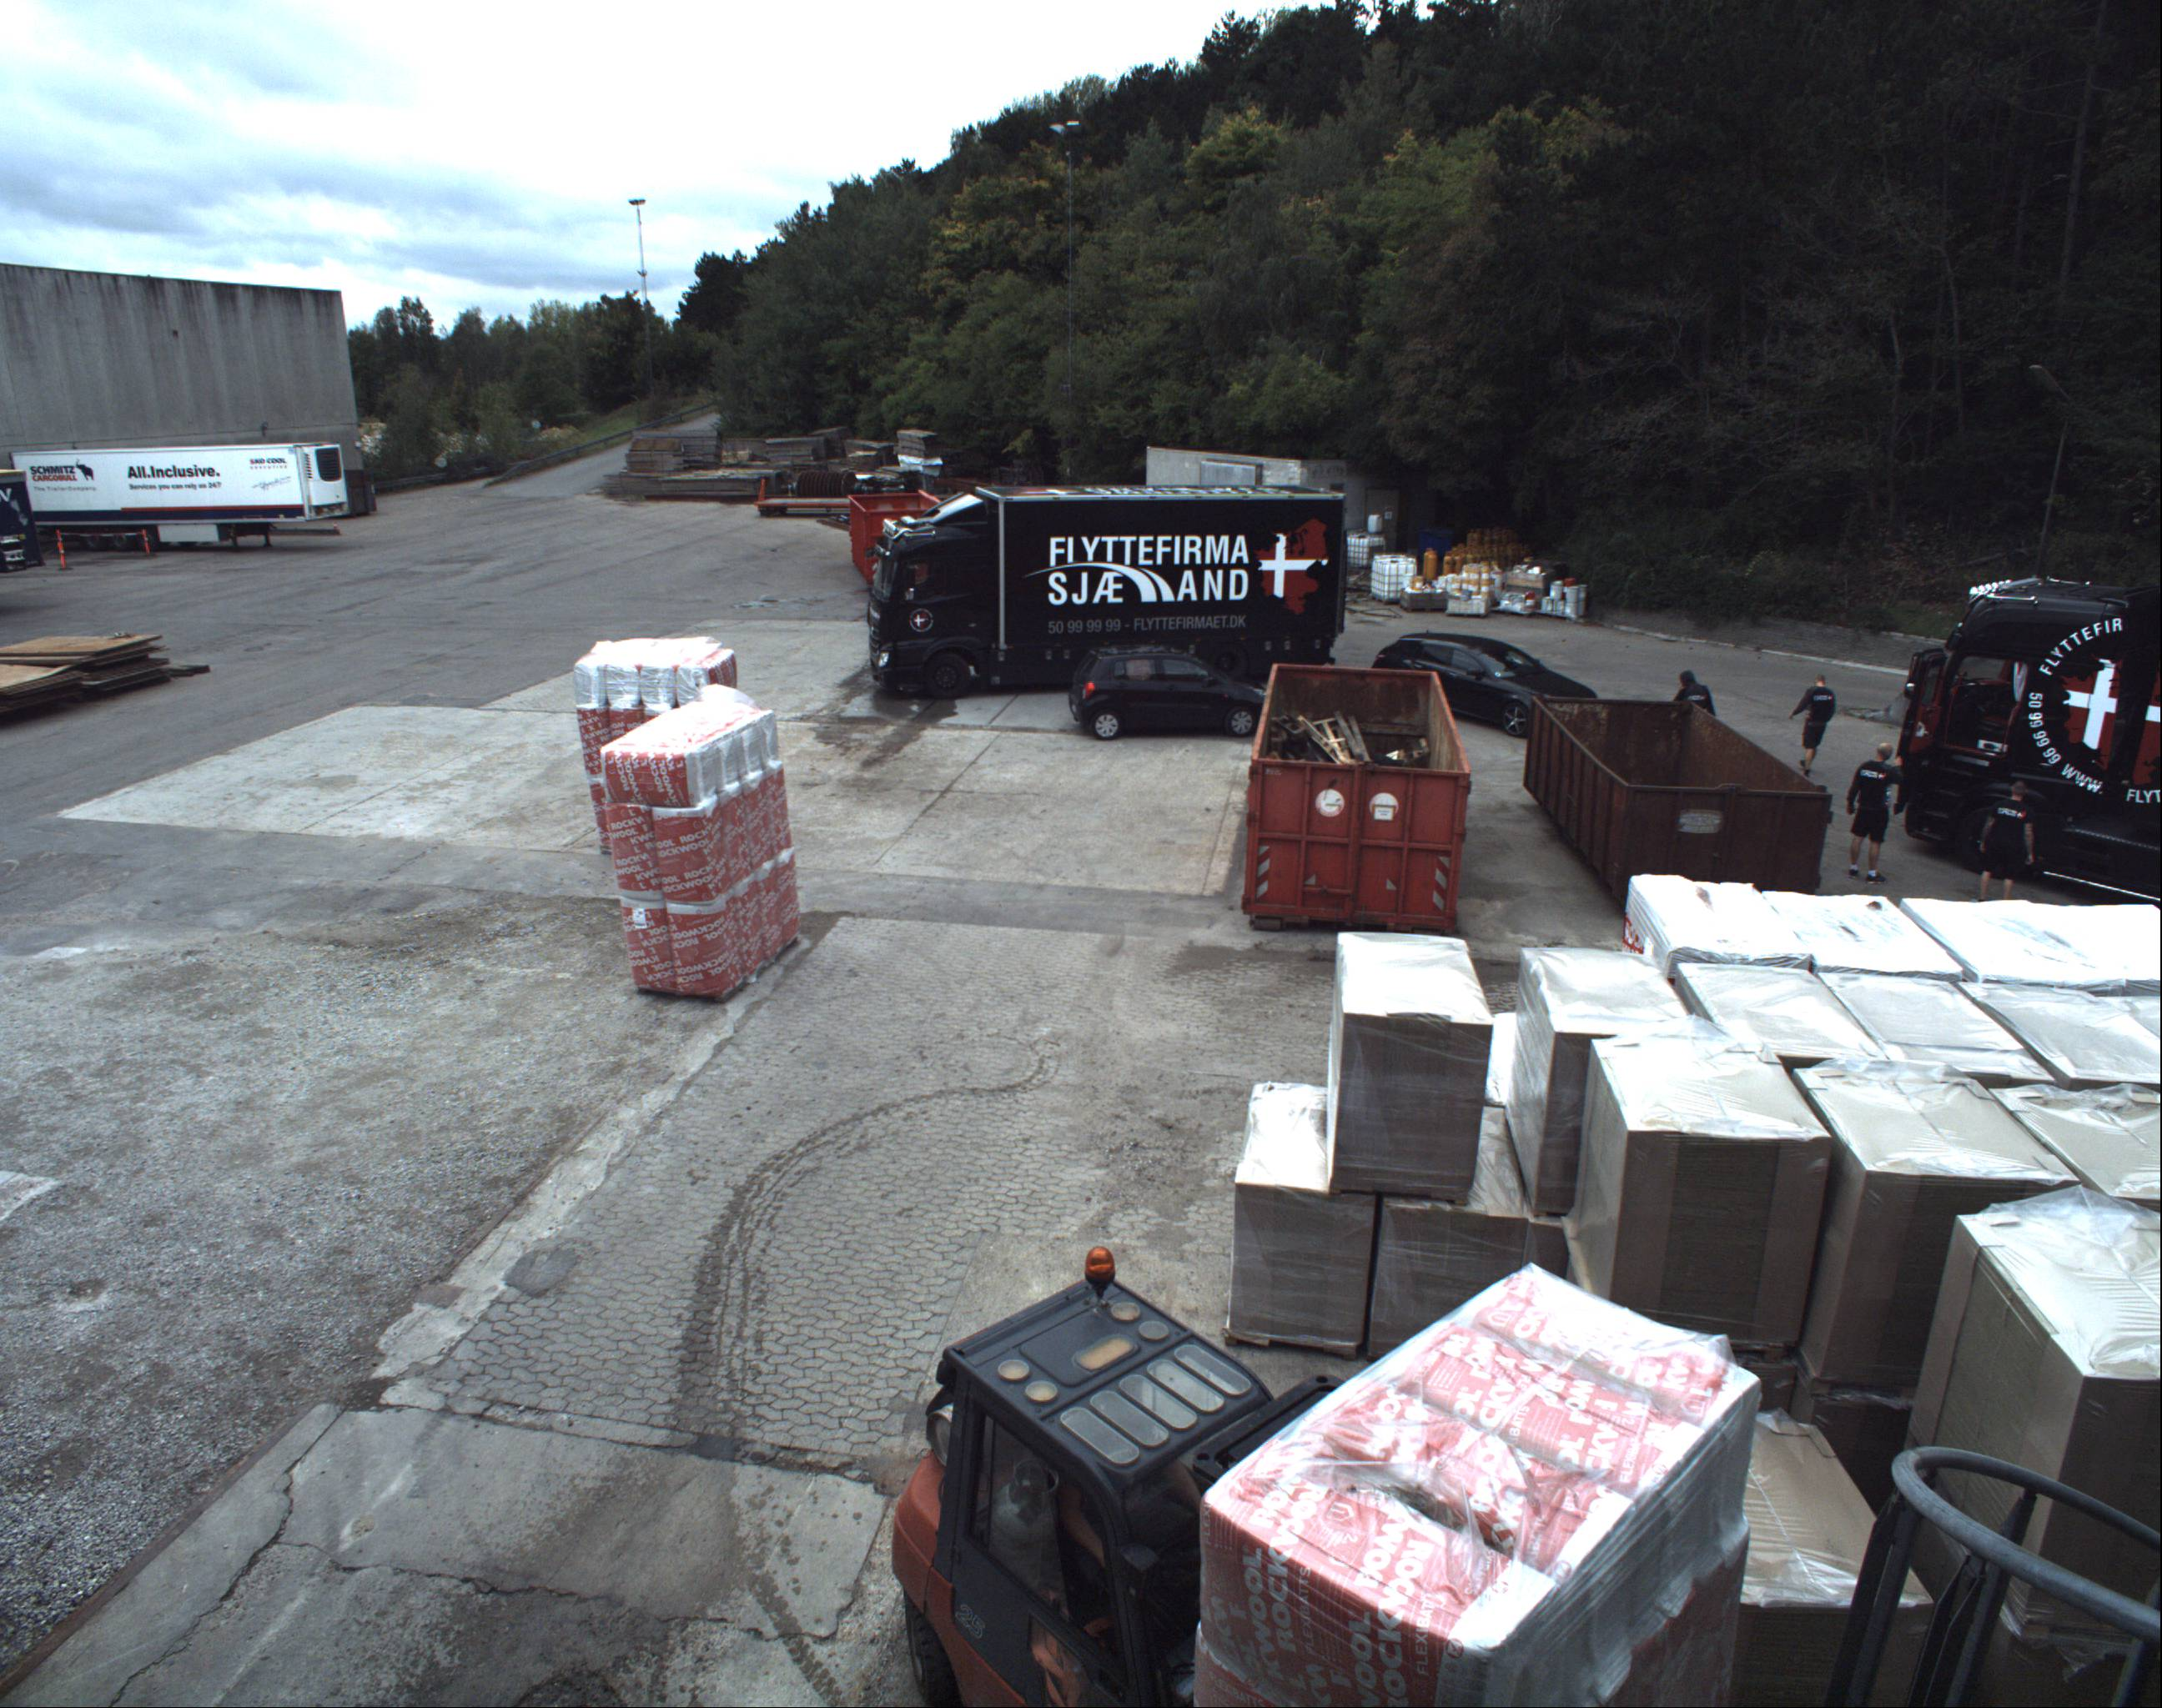rockwool_batts: (1193, 1215, 1732, 1706), (611, 695, 809, 1011), (588, 634, 725, 809)
